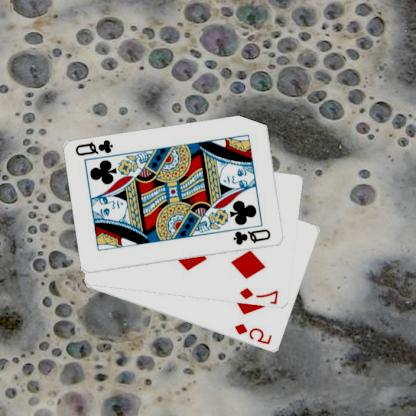5D: (233, 321, 276, 346)
7D: (239, 285, 282, 304)
QC: (232, 226, 274, 247), (74, 137, 116, 158)
